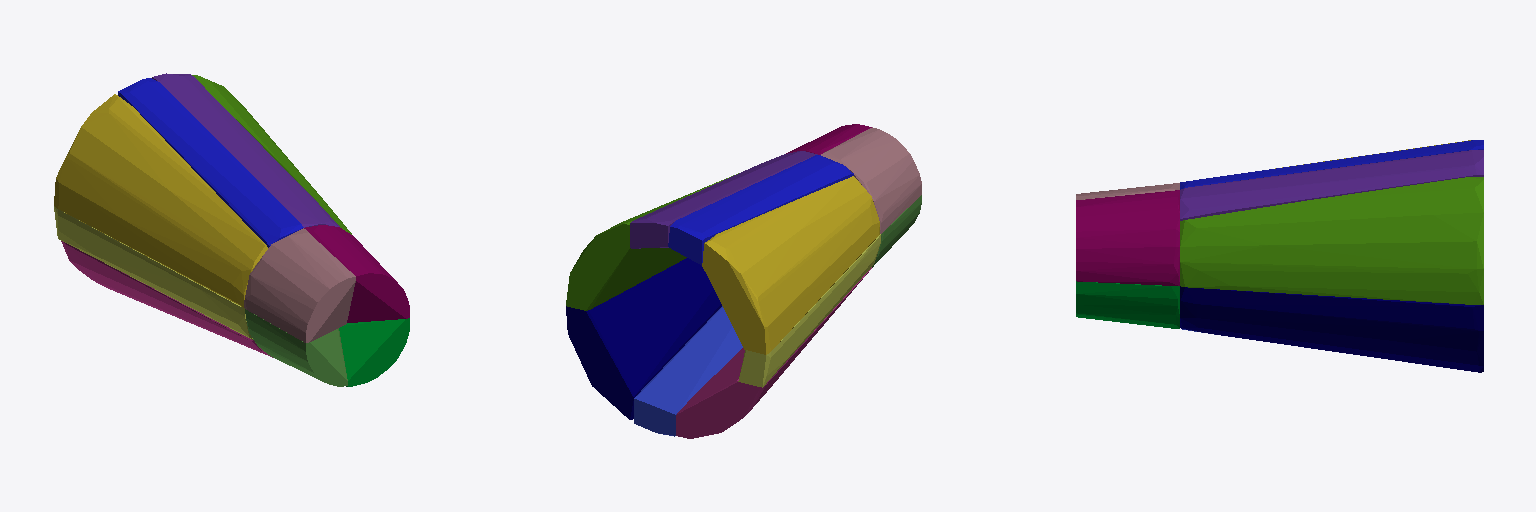
The model's file is cup_0004_vhacd_transform.obj.
The picture shows the model from 3 angles: view 1: azimuth 30°, elevation 25°; view 2: azimuth 150°, elevation 25°; view 3: azimuth 270°, elevation 25°; orthographic projection.
Parts seen in each view (by area): view 1: Shape_IndexedFaceSet.008, Shape_IndexedFaceSet.002, Shape_IndexedFaceSet.009, Shape_IndexedFaceSet.010, Shape_IndexedFaceSet.005, Shape_IndexedFaceSet.003, Shape_IndexedFaceSet, Shape_IndexedFaceSet.001, Shape_IndexedFaceSet.004, Shape_IndexedFaceSet.011; view 2: Shape_IndexedFaceSet.008, Shape_IndexedFaceSet.007, Shape_IndexedFaceSet.009, Shape_IndexedFaceSet.006, Shape_IndexedFaceSet.011, Shape_IndexedFaceSet.002, Shape_IndexedFaceSet.004, Shape_IndexedFaceSet.010, Shape_IndexedFaceSet.005, Shape_IndexedFaceSet, Shape_IndexedFaceSet.003; view 3: Shape_IndexedFaceSet.011, Shape_IndexedFaceSet.007, Shape_IndexedFaceSet.003, Shape_IndexedFaceSet.010, Shape_IndexedFaceSet.001, Shape_IndexedFaceSet.009, Shape_IndexedFaceSet.002.
Part boxes in pixels (bbox=[...]): Shape_IndexedFaceSet.008: bbox=[54, 94, 267, 307]; Shape_IndexedFaceSet.002: bbox=[244, 228, 355, 342]; Shape_IndexedFaceSet.009: bbox=[118, 78, 303, 247]; Shape_IndexedFaceSet.010: bbox=[152, 73, 339, 227]; Shape_IndexedFaceSet.005: bbox=[54, 206, 252, 339]; Shape_IndexedFaceSet.003: bbox=[304, 225, 409, 322]; Shape_IndexedFaceSet: bbox=[245, 309, 347, 386]; Shape_IndexedFaceSet.001: bbox=[339, 318, 409, 386]; Shape_IndexedFaceSet.004: bbox=[61, 241, 272, 357]; Shape_IndexedFaceSet.011: bbox=[192, 75, 351, 234]; Shape_IndexedFaceSet.008: bbox=[702, 176, 879, 354]; Shape_IndexedFaceSet.007: bbox=[566, 258, 721, 419]; Shape_IndexedFaceSet.009: bbox=[668, 155, 853, 265]; Shape_IndexedFaceSet.006: bbox=[634, 306, 742, 436]; Shape_IndexedFaceSet.011: bbox=[566, 173, 738, 310]; Shape_IndexedFaceSet.002: bbox=[821, 127, 921, 233]; Shape_IndexedFaceSet.004: bbox=[676, 267, 871, 438]; Shape_IndexedFaceSet.010: bbox=[630, 151, 817, 248]; Shape_IndexedFaceSet.005: bbox=[738, 234, 880, 387]; Shape_IndexedFaceSet: bbox=[872, 195, 921, 267]; Shape_IndexedFaceSet.003: bbox=[786, 124, 871, 154]; Shape_IndexedFaceSet.011: bbox=[1180, 177, 1483, 304]; Shape_IndexedFaceSet.007: bbox=[1180, 286, 1483, 372]; Shape_IndexedFaceSet.003: bbox=[1076, 190, 1179, 285]; Shape_IndexedFaceSet.010: bbox=[1180, 150, 1483, 220]; Shape_IndexedFaceSet.001: bbox=[1076, 281, 1179, 328]; Shape_IndexedFaceSet.009: bbox=[1180, 140, 1483, 189]; Shape_IndexedFaceSet.002: bbox=[1076, 183, 1179, 199].
Size of the model in its own units: 0.0857 by 0.0857 by 0.1509.